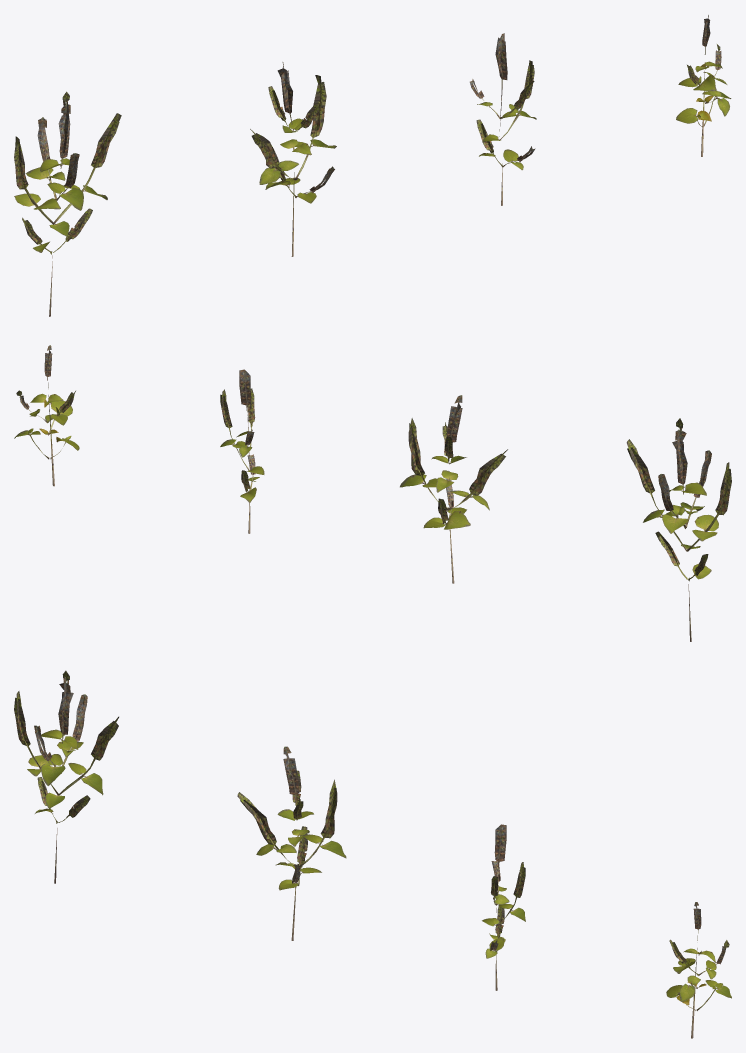
File: shrub_03_lo.glb
The picture shows the model from 3 angles, top to bottom: view 1: azimuth 30°, elevation 25°; view 2: azimuth 150°, elevation 25°; view 3: azimuth 330°, elevation 25°; orthographic projection. The views are drawn at different scales.
Visible parts, largest first — view 1: shrub_03_a, shrub_03_b, shrub_03_c, shrub_03_d; view 2: shrub_03_a, shrub_03_b, shrub_03_c, shrub_03_d; view 3: shrub_03_a, shrub_03_b, shrub_03_c, shrub_03_d.
Boxes of the visible parts, bbox=[...] form: shrub_03_a: bbox=[14, 91, 121, 316]; shrub_03_b: bbox=[250, 62, 336, 256]; shrub_03_c: bbox=[469, 33, 536, 205]; shrub_03_d: bbox=[676, 15, 731, 156]; shrub_03_a: bbox=[626, 418, 731, 641]; shrub_03_b: bbox=[400, 395, 507, 583]; shrub_03_c: bbox=[220, 369, 264, 533]; shrub_03_d: bbox=[14, 345, 79, 486]; shrub_03_a: bbox=[14, 670, 118, 883]; shrub_03_b: bbox=[237, 746, 346, 940]; shrub_03_c: bbox=[482, 824, 525, 990]; shrub_03_d: bbox=[666, 902, 731, 1038].
Size of the model in its own units: 1.37 by 0.4028 by 0.1512.
Materials: 1 (1 with a texture image).
